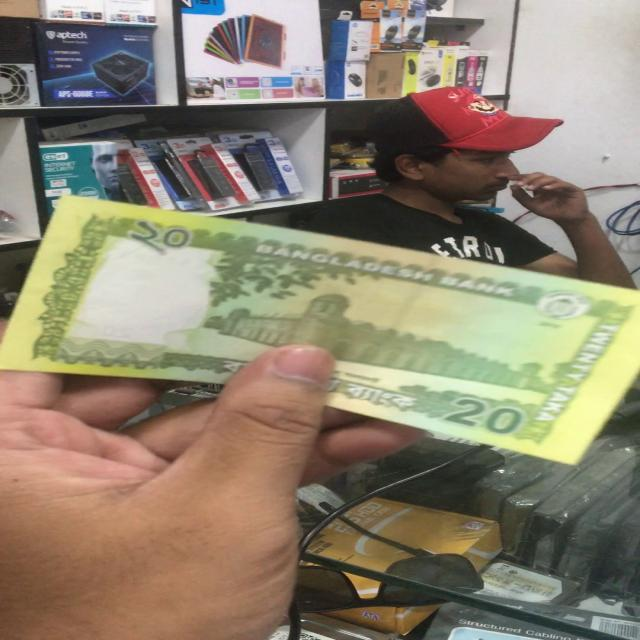Taka: (37, 199, 627, 457)
